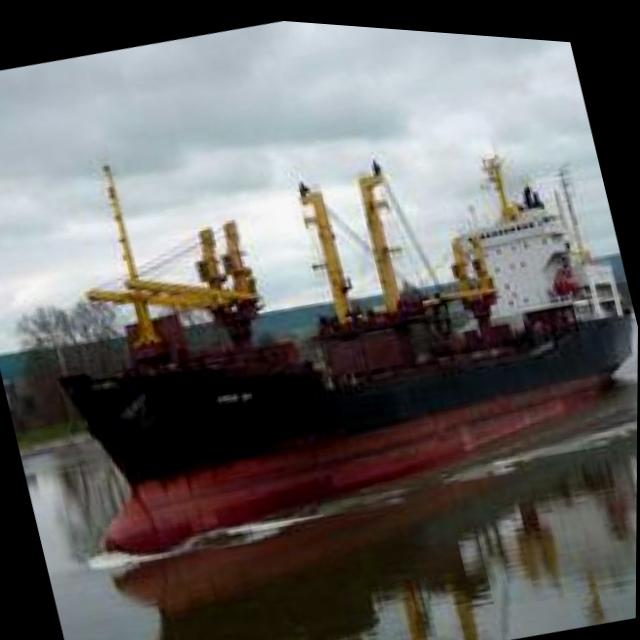ship2: (60, 147, 633, 557)
